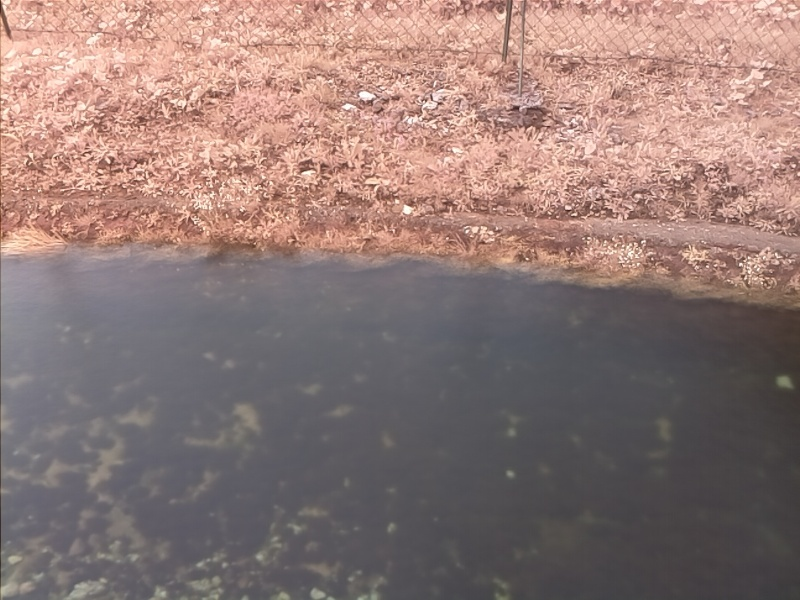Water: (2, 248, 798, 600)
